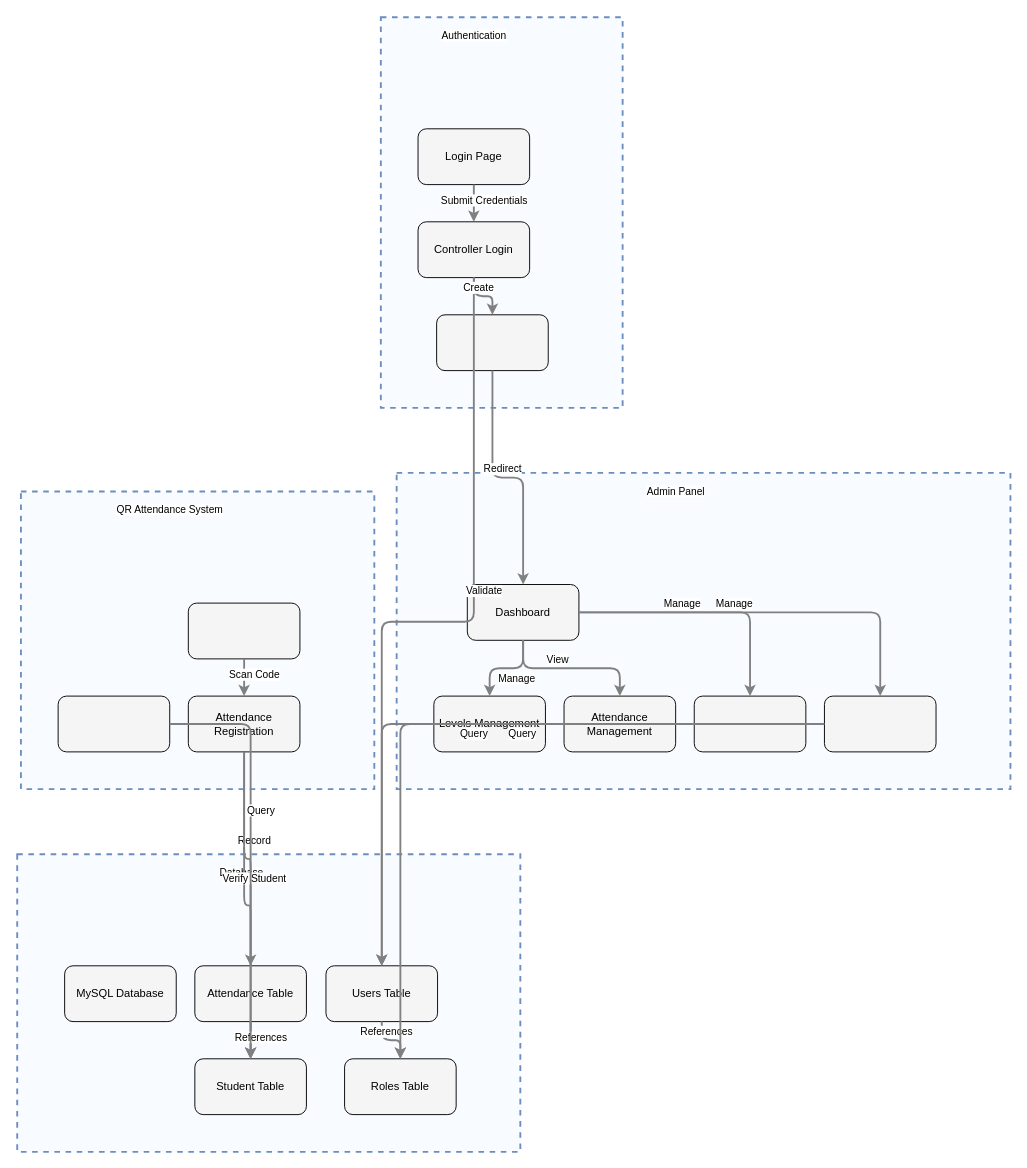
Some shapes in this 1027 by 1168 pixel diagram are drawn without their labels. The shapes that lost their labels are listed below. From the top down, each one's centre as x and y in pixels, then its label:
At [492,342]: "Session Management".
At [243,630]: "QR Scanner".
At [113,723]: "Student Masterlist".
At [749,723]: "Users Management".
At [880,723]: "Roles Management".
